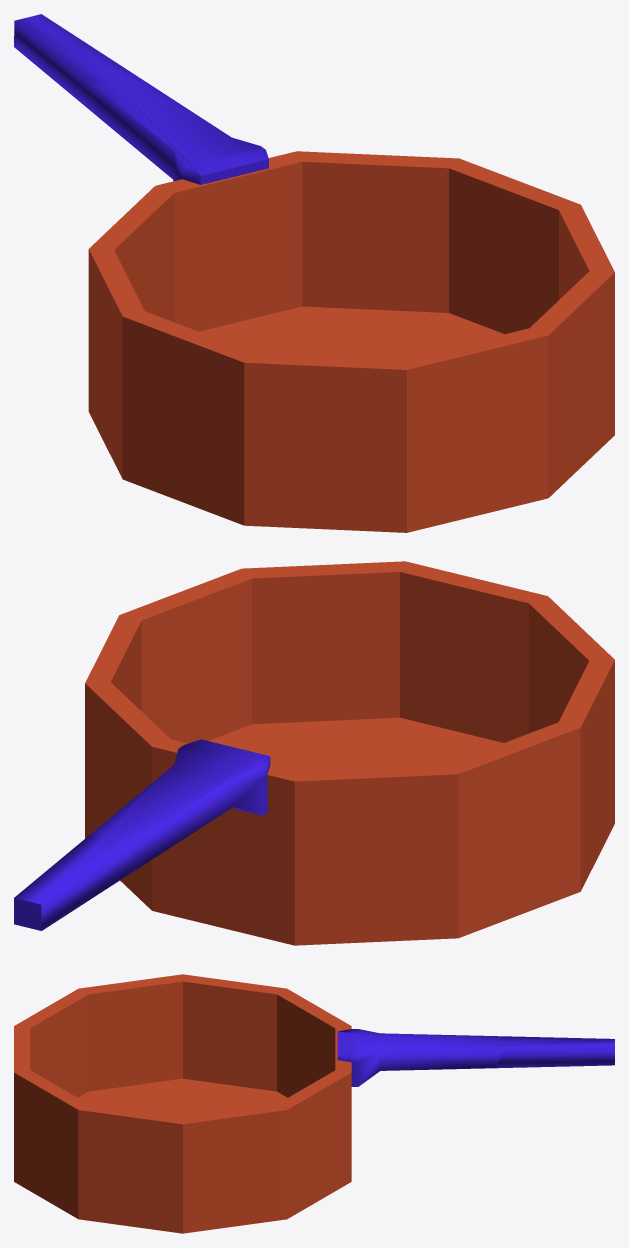
The model's file is P_Casseroles2_Colored_Breakable.fbx.
3 views of the same model, one above another, from view 1: azimuth 30°, elevation 25°; view 2: azimuth 150°, elevation 25°; view 3: azimuth 270°, elevation 25° (orthographic). The views are drawn at different scales.
Parts seen in each view (by area): view 1: P_Casserole2_Colored_Breakable, P_Casserole2_Colored_Breakable_cell.003, P_Casserole2_Colored_Breakable_cell.002, P_Casserole2_Colored_Breakable_cell.009, P_Casserole2_Colored_Breakable_cell.001, P_Casserole2_Colored_Breakable_cell.005, P_Casserole2_Colored_Breakable_cell.008, P_Casserole2_Colored_Breakable_cell.006, P_Casserole2_Colored_Breakable_cell.007, P_Casserole2_Colored_Breakable_cell.004, P_Casserole2_Colored_Breakable_cell; view 2: P_Casserole2_Colored_Breakable, P_Casserole2_Colored_Breakable_cell.001, P_Casserole2_Colored_Breakable_cell.002, P_Casserole2_Colored_Breakable_cell.007, P_Casserole2_Colored_Breakable_cell.003, P_Casserole2_Colored_Breakable_cell.008, P_Casserole2_Colored_Breakable_cell.009, P_Casserole2_Colored_Breakable_cell; view 3: P_Casserole2_Colored_Breakable, P_Casserole2_Colored_Breakable_cell.001, P_Casserole2_Colored_Breakable_cell.008, P_Casserole2_Colored_Breakable_cell.002, P_Casserole2_Colored_Breakable_cell, P_Casserole2_Colored_Breakable_cell.009, P_Casserole2_Colored_Breakable_cell.003, P_Casserole2_Colored_Breakable_cell.007, P_Casserole2_Colored_Breakable_cell.005, P_Casserole2_Colored_Breakable_cell.006, P_Casserole2_Colored_Breakable_cell.004.
Part boxes in pixels (bbox=[...]): P_Casserole2_Colored_Breakable: bbox=[14, 21, 614, 532]; P_Casserole2_Colored_Breakable_cell.003: bbox=[110, 315, 490, 532]; P_Casserole2_Colored_Breakable_cell.002: bbox=[113, 73, 450, 262]; P_Casserole2_Colored_Breakable_cell.009: bbox=[346, 262, 614, 494]; P_Casserole2_Colored_Breakable_cell.001: bbox=[89, 80, 244, 437]; P_Casserole2_Colored_Breakable_cell.005: bbox=[109, 213, 392, 452]; P_Casserole2_Colored_Breakable_cell.008: bbox=[444, 163, 601, 341]; P_Casserole2_Colored_Breakable_cell.006: bbox=[331, 174, 473, 359]; P_Casserole2_Colored_Breakable_cell.007: bbox=[14, 14, 131, 113]; P_Casserole2_Colored_Breakable_cell.004: bbox=[488, 448, 571, 511]; P_Casserole2_Colored_Breakable_cell: bbox=[578, 249, 614, 455]; P_Casserole2_Colored_Breakable: bbox=[14, 561, 614, 945]; P_Casserole2_Colored_Breakable_cell.001: bbox=[115, 717, 582, 894]; P_Casserole2_Colored_Breakable_cell.002: bbox=[90, 683, 268, 838]; P_Casserole2_Colored_Breakable_cell.007: bbox=[14, 834, 138, 926]; P_Casserole2_Colored_Breakable_cell.003: bbox=[452, 628, 610, 898]; P_Casserole2_Colored_Breakable_cell.008: bbox=[85, 581, 210, 819]; P_Casserole2_Colored_Breakable_cell.009: bbox=[240, 572, 553, 727]; P_Casserole2_Colored_Breakable_cell: bbox=[224, 591, 366, 723]; P_Casserole2_Colored_Breakable: bbox=[14, 975, 614, 1233]; P_Casserole2_Colored_Breakable_cell.001: bbox=[175, 974, 501, 1098]; P_Casserole2_Colored_Breakable_cell.008: bbox=[107, 1104, 294, 1233]; P_Casserole2_Colored_Breakable_cell.002: bbox=[278, 1031, 502, 1107]; P_Casserole2_Colored_Breakable_cell: bbox=[36, 1107, 116, 1224]; P_Casserole2_Colored_Breakable_cell.009: bbox=[14, 1072, 96, 1172]; P_Casserole2_Colored_Breakable_cell.003: bbox=[78, 986, 214, 1115]; P_Casserole2_Colored_Breakable_cell.007: bbox=[496, 1036, 614, 1068]; P_Casserole2_Colored_Breakable_cell.005: bbox=[192, 1075, 351, 1177]; P_Casserole2_Colored_Breakable_cell.006: bbox=[184, 1109, 312, 1215]; P_Casserole2_Colored_Breakable_cell.004: bbox=[14, 1155, 41, 1193].
Bounding box in the file's own units: 96.63 × 43.02 × 164.
